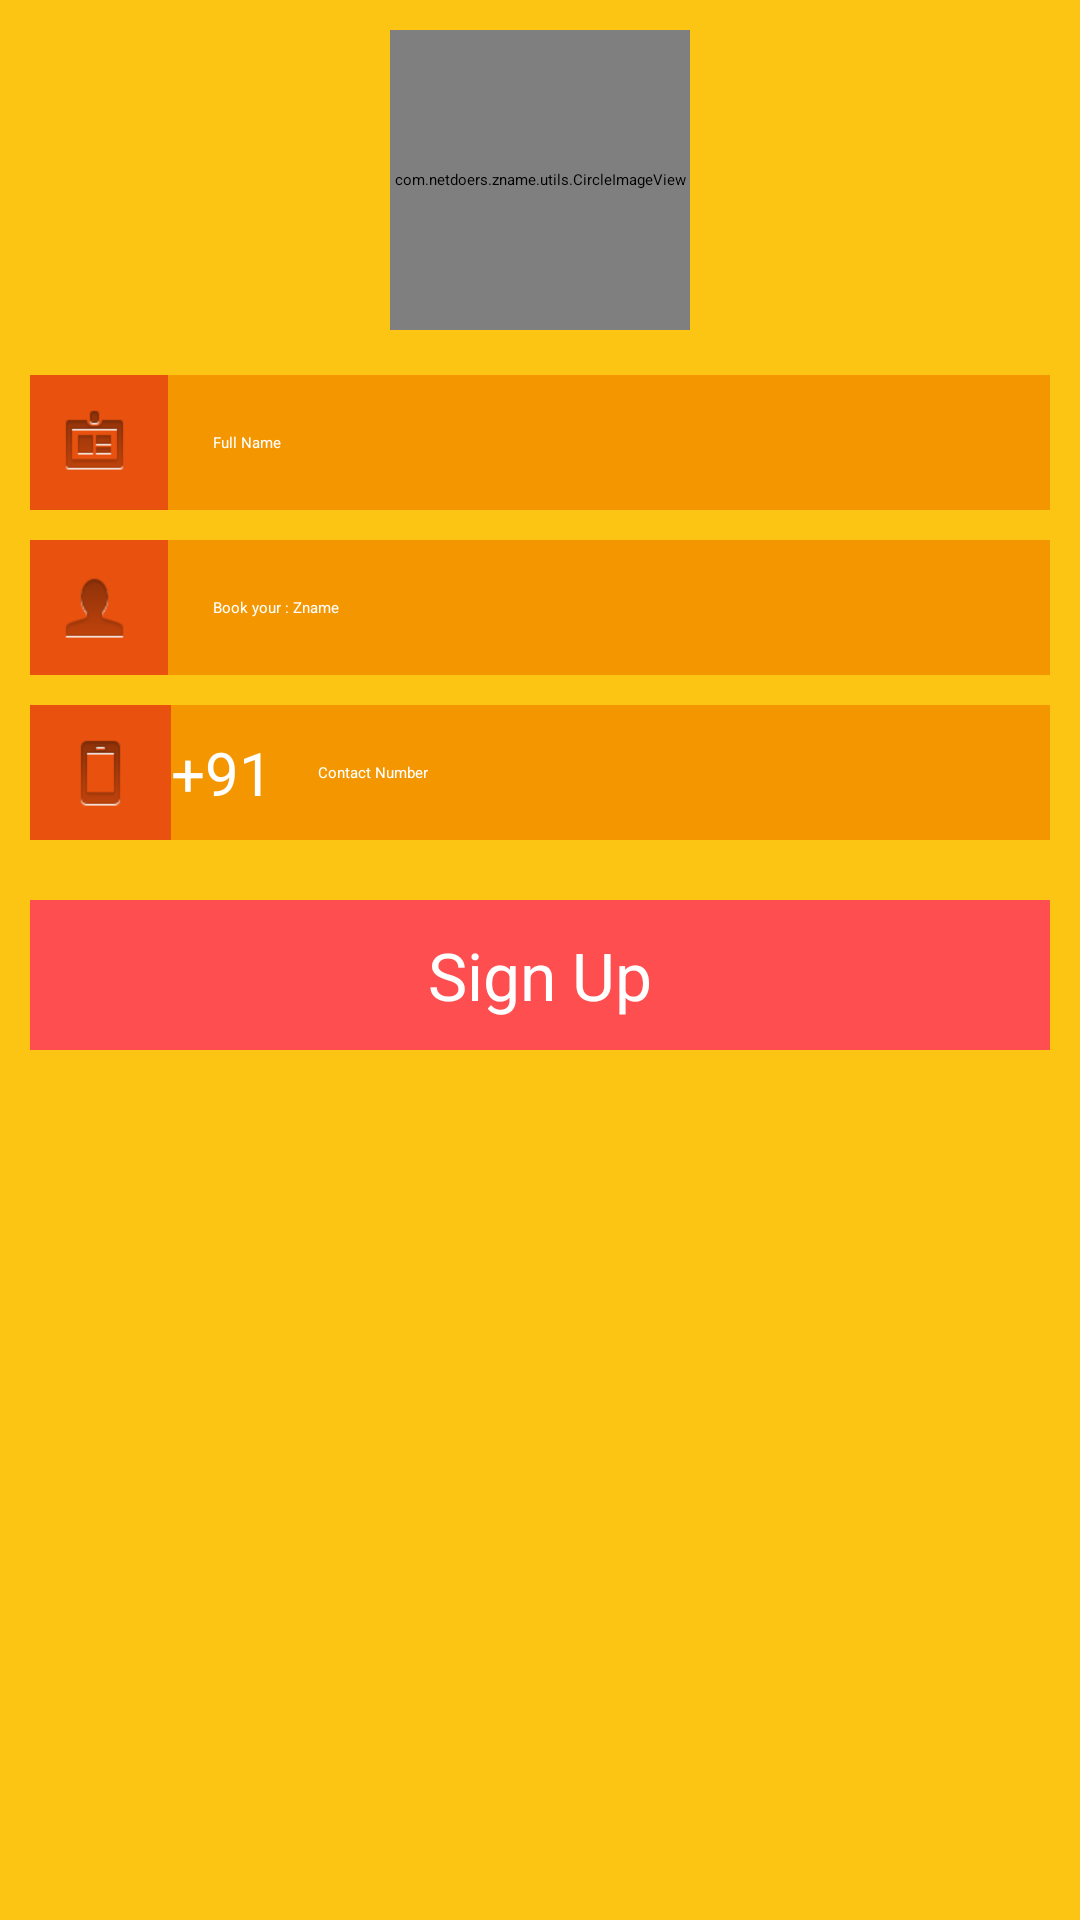

Icons on this 1080x1920 Android screen, each with its box as detection(x1, y1, x2, y2):
accounts glyph name: detection(66, 411, 123, 470)
accounts glyph phone: detection(81, 741, 120, 806)
accounts glyph username: detection(65, 579, 124, 638)
